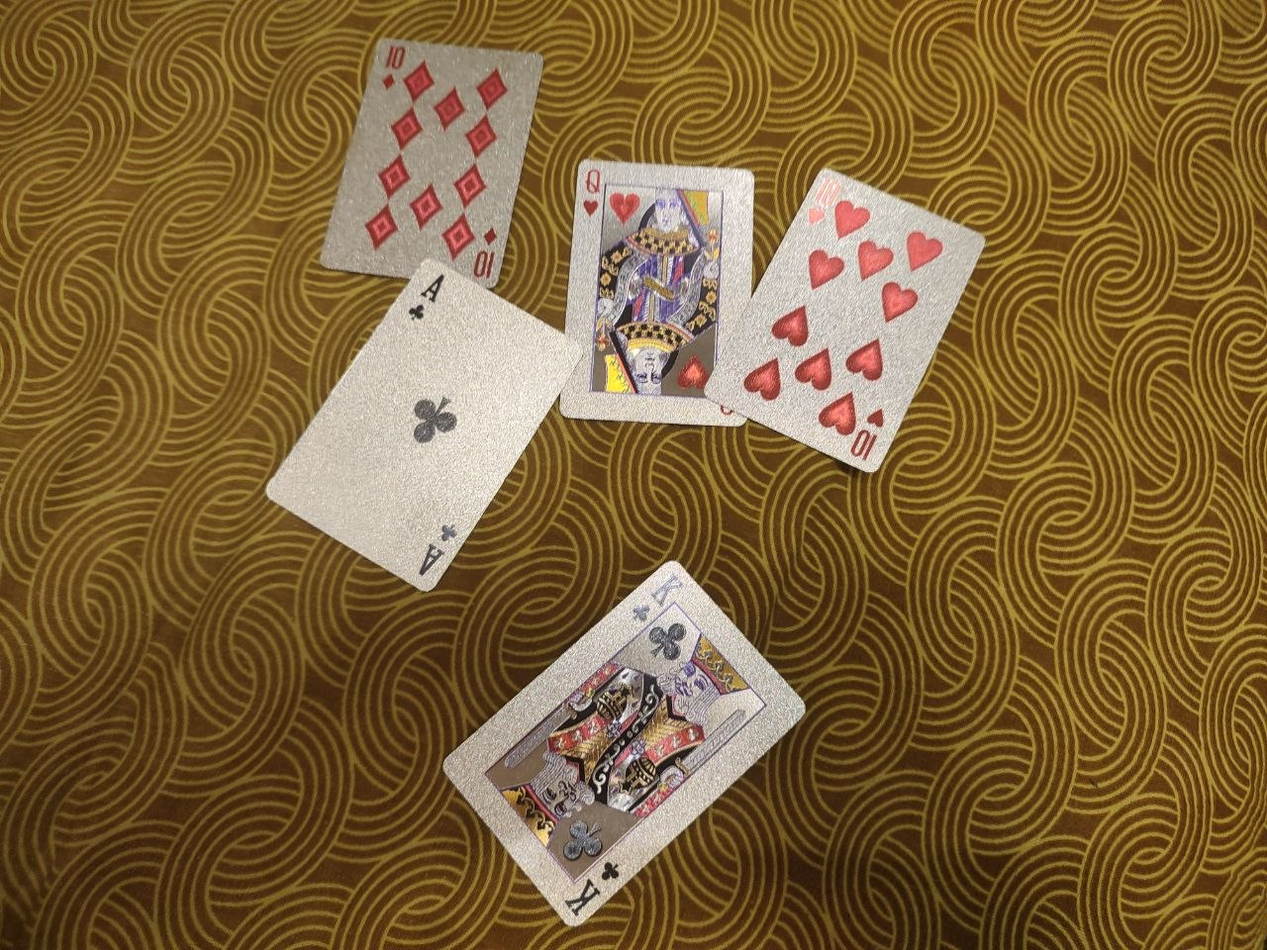10D: (318, 36, 546, 290)
10H: (704, 166, 986, 472)
AC: (262, 256, 586, 594)
KC: (438, 557, 810, 927)
QH: (557, 159, 757, 428)
